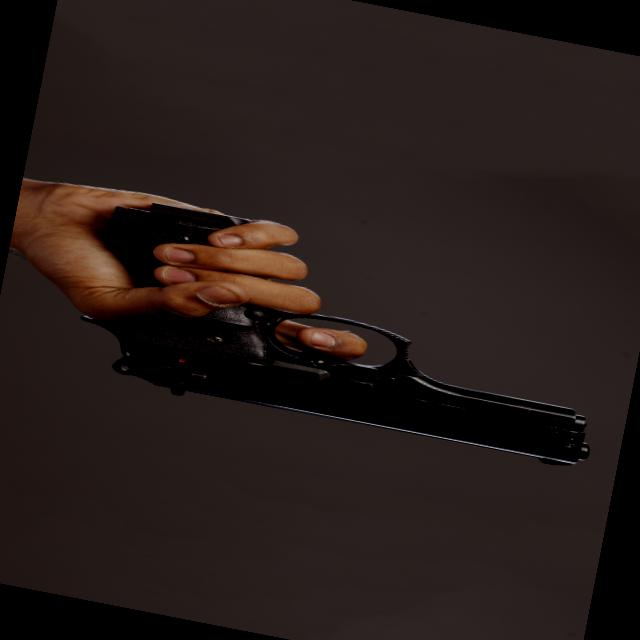handgun: (98, 188, 624, 472)
